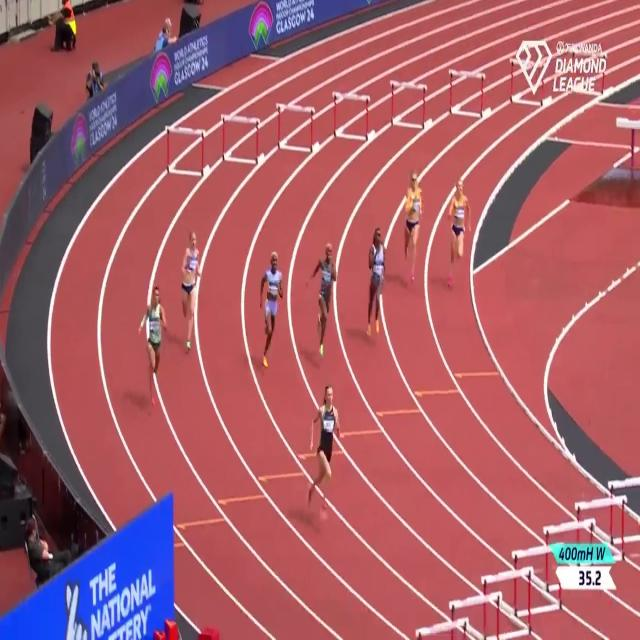athlete: (304, 377, 340, 548), (250, 245, 286, 379), (361, 217, 390, 354), (305, 237, 337, 360), (176, 225, 202, 357), (140, 280, 166, 410), (444, 176, 472, 293), (402, 164, 423, 291)
hurdle: (162, 124, 210, 186), (330, 82, 370, 149), (446, 62, 486, 128), (388, 76, 430, 137), (505, 51, 549, 108), (220, 111, 262, 169), (276, 100, 315, 158)
